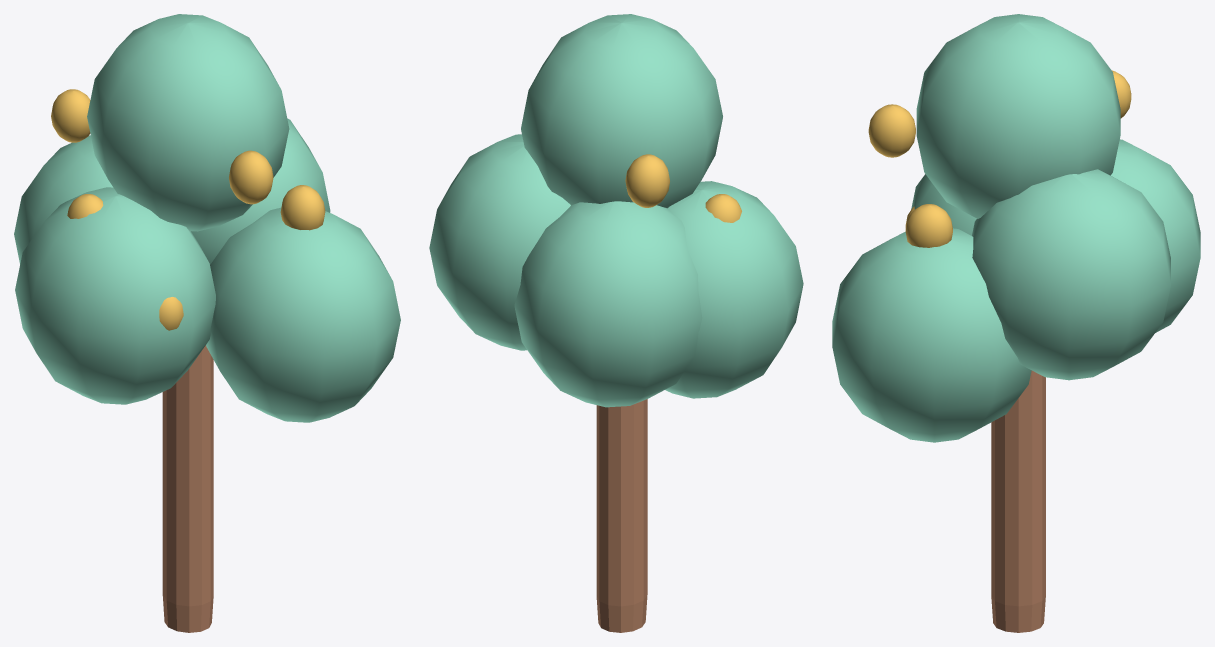
The model's file is tet_tree.glb.
The picture shows the model from 3 angles, left to right: view 1: azimuth 30°, elevation 25°; view 2: azimuth 150°, elevation 25°; view 3: azimuth 270°, elevation 25°; orthographic projection.
Visible parts, largest first — view 1: model; view 2: model; view 3: model.
Boxes of the visible parts, <box> form: model: <box>14,14,400,632</box>; model: <box>429,14,803,632</box>; model: <box>832,14,1200,632</box>.
Size of the model in its own units: 0.75 by 1.35 by 0.75.
